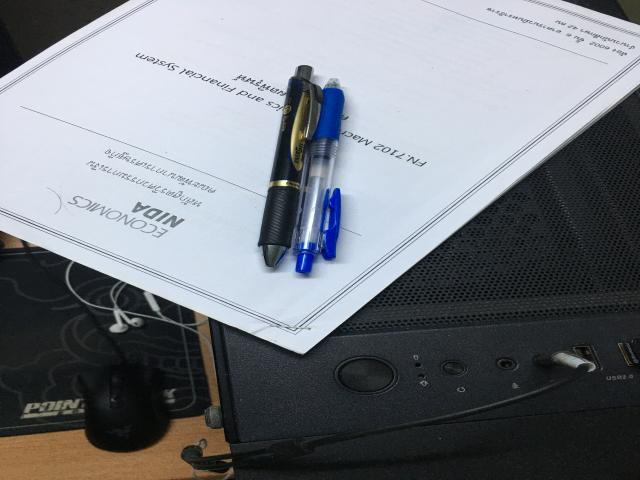Mouse: (78, 364, 170, 452)
Pen: (259, 66, 344, 276)
paper: (2, 0, 638, 353)
wire: (88, 285, 172, 335)
